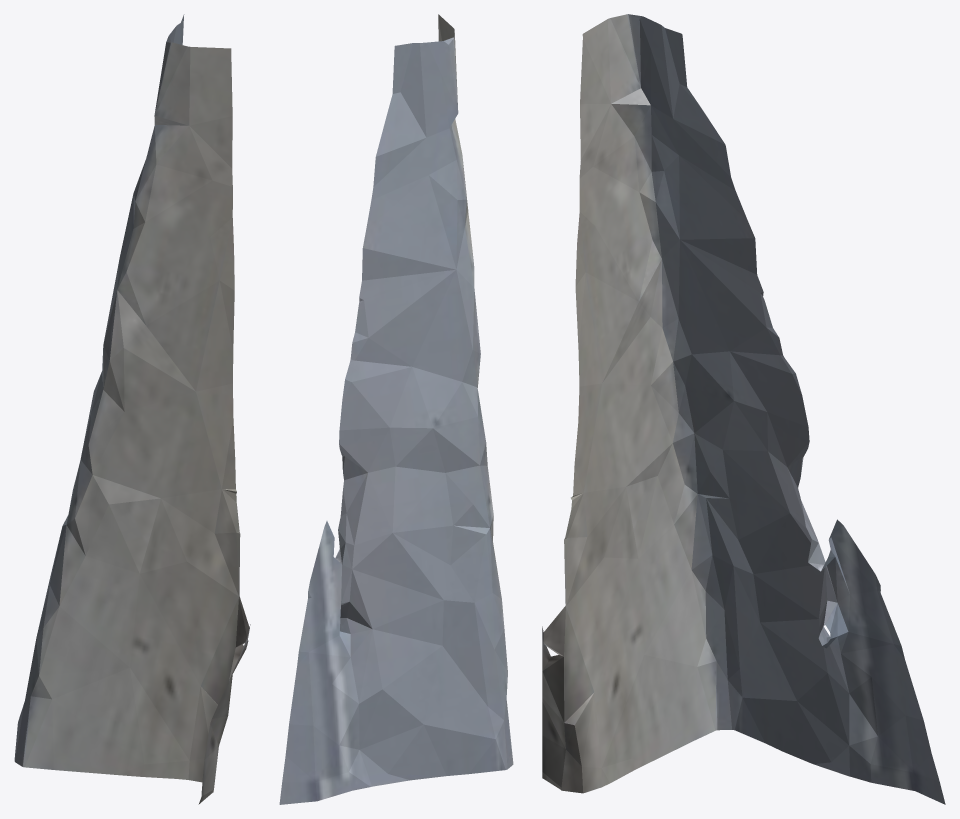
3 renders of one model, left to right at view 1: azimuth 30°, elevation 25°; view 2: azimuth 150°, elevation 25°; view 3: azimuth 270°, elevation 25°, orthographic. The views are drawn at different scales.
Bounding box in the file's own units: 0.1749 × 0.8373 × 0.397.
1 material, 1 textured.
